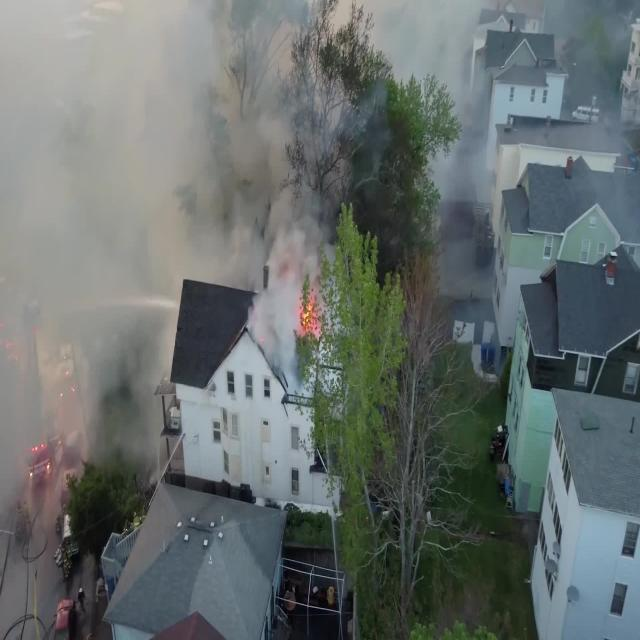Fire: (302, 286, 318, 341)
Smoke: (0, 0, 374, 640)
